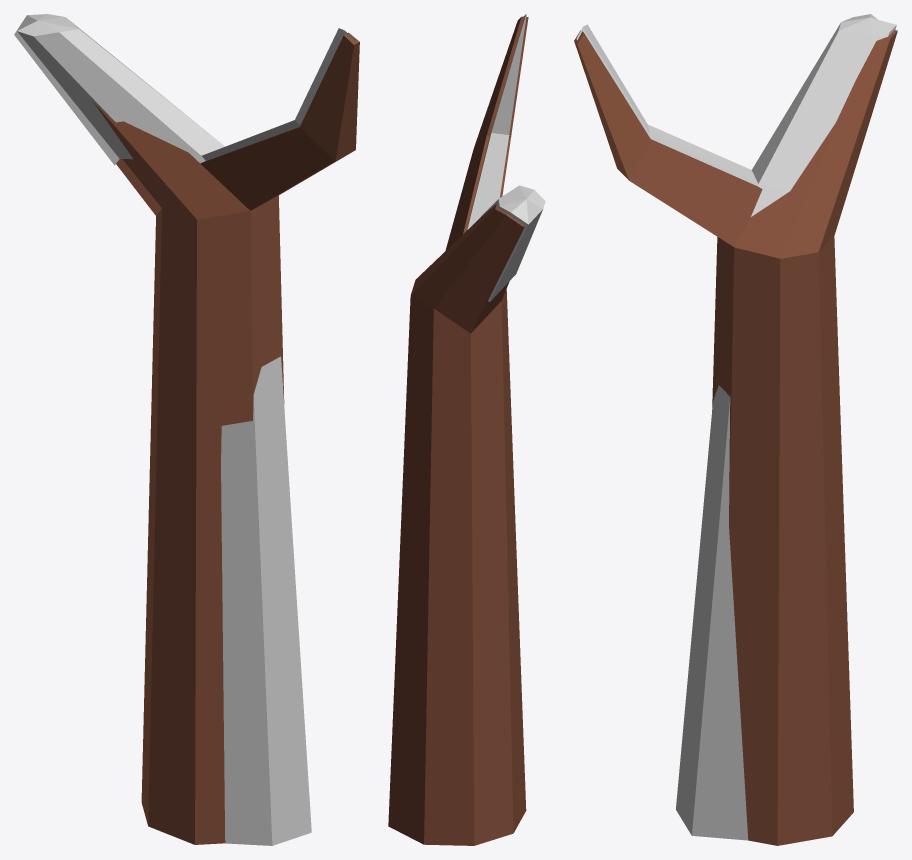
Rendered from Tree_04_winter_mat.fbx.
The picture shows the model from 3 angles, left to right: view 1: azimuth 30°, elevation 25°; view 2: azimuth 150°, elevation 25°; view 3: azimuth 270°, elevation 25°; orthographic projection. The views are drawn at different scales.
Visible parts, largest first — view 1: Tree_04_winter_mat; view 2: Tree_04_winter_mat; view 3: Tree_04_winter_mat.
Part boxes in pixels (box(x1,y1,x2,y2)): Tree_04_winter_mat: box(14, 14, 359, 845); Tree_04_winter_mat: box(388, 14, 545, 845); Tree_04_winter_mat: box(574, 14, 897, 845).
Size of the model in its own units: 1.66 by 6.14 by 2.25.
